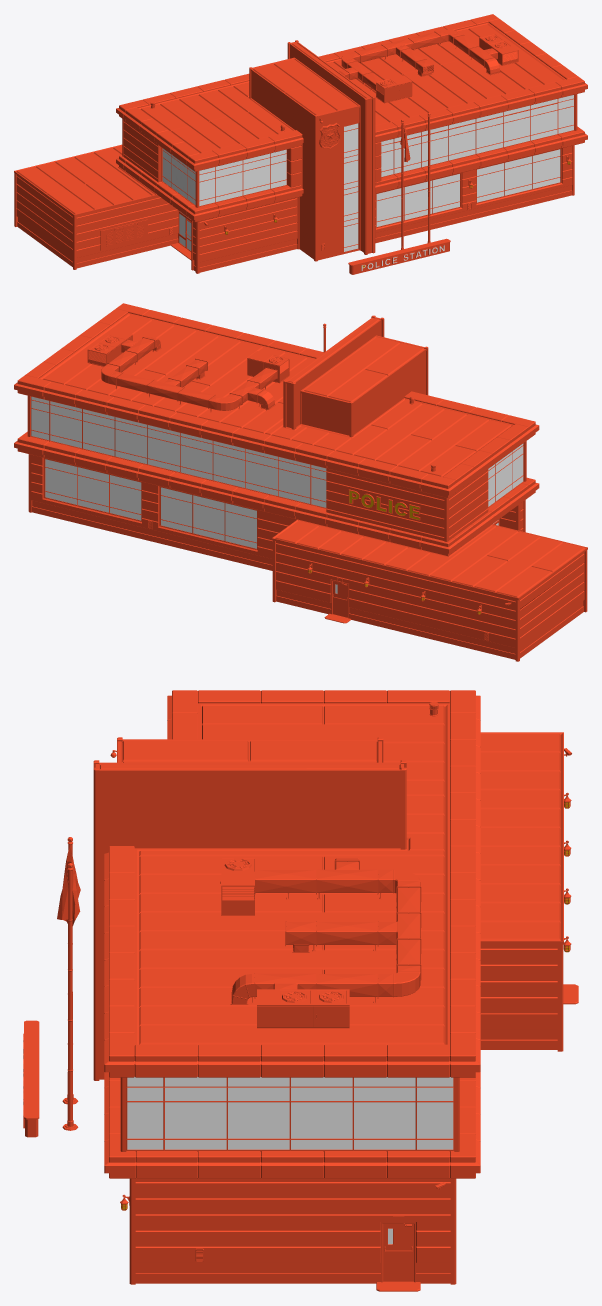
The model's file is SM_Police_Station_City.fbx.
3 renders of one model, top to bottom at view 1: azimuth 30°, elevation 25°; view 2: azimuth 150°, elevation 25°; view 3: azimuth 270°, elevation 25°, orthographic. The views are drawn at different scales.
Visible parts, largest first — view 1: SM_Police_Station_City_Base; view 2: SM_Police_Station_City_Base; view 3: SM_Police_Station_City_Base.
Part boxes in pixels (box(x1,y1,x2,y2)): SM_Police_Station_City_Base: box(14, 14, 587, 274); SM_Police_Station_City_Base: box(14, 303, 587, 661); SM_Police_Station_City_Base: box(23, 690, 578, 1291).
Bounding box in the file's own units: 34.52 × 11.16 × 18.05.
